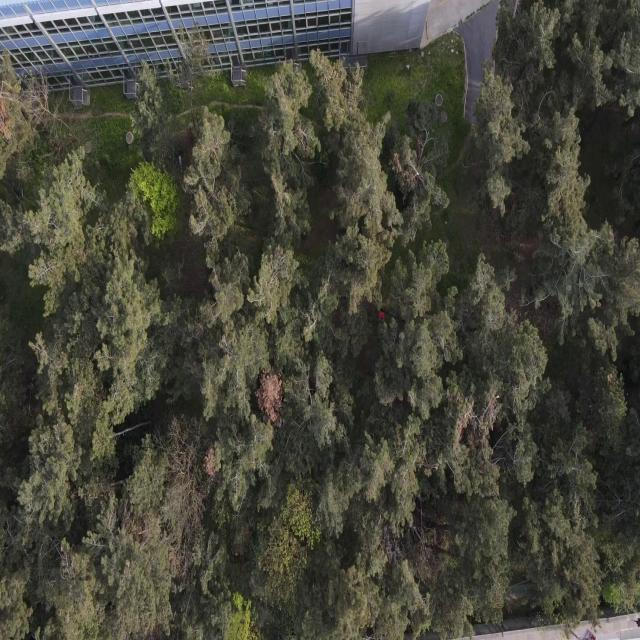p3rson: (633, 616, 640, 628)
